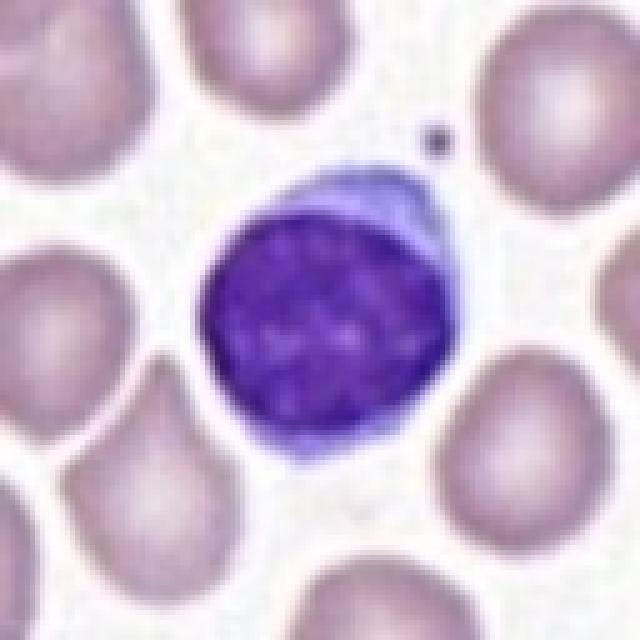lympho: (190, 156, 466, 470)
